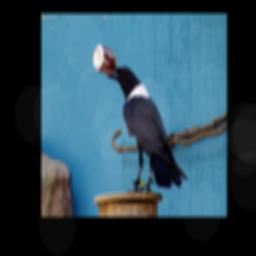Crow: (106, 64, 188, 194)
